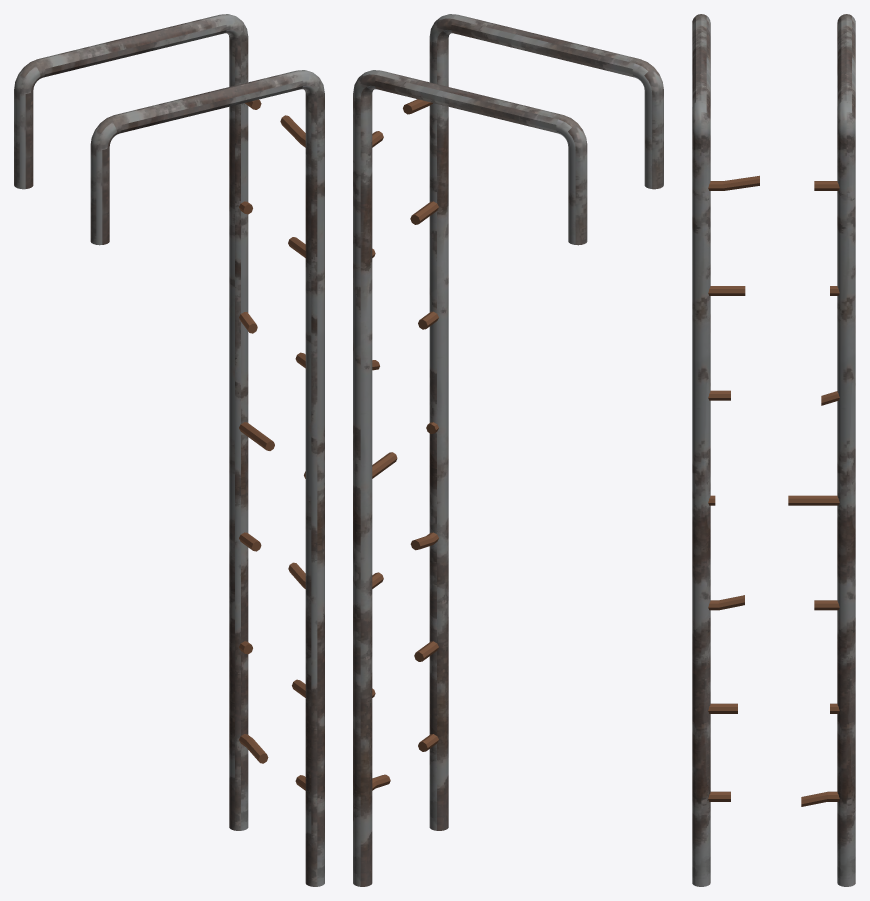
File: broken_ladder.fbx
The picture shows the model from 3 angles, left to right: view 1: azimuth 30°, elevation 25°; view 2: azimuth 150°, elevation 25°; view 3: azimuth 270°, elevation 25°; orthographic projection. The views are drawn at different scales.
Parts seen in each view (by area): view 1: ladder_broken; view 2: ladder_broken; view 3: ladder_broken.
Boxes of the visible parts, left/top/right/bottom form: ladder_broken: left=14, top=14, right=324, bottom=886; ladder_broken: left=353, top=14, right=663, bottom=886; ladder_broken: left=692, top=14, right=855, bottom=886.
Bounding box in the file's own units: 106 × 357 × 68.36.
